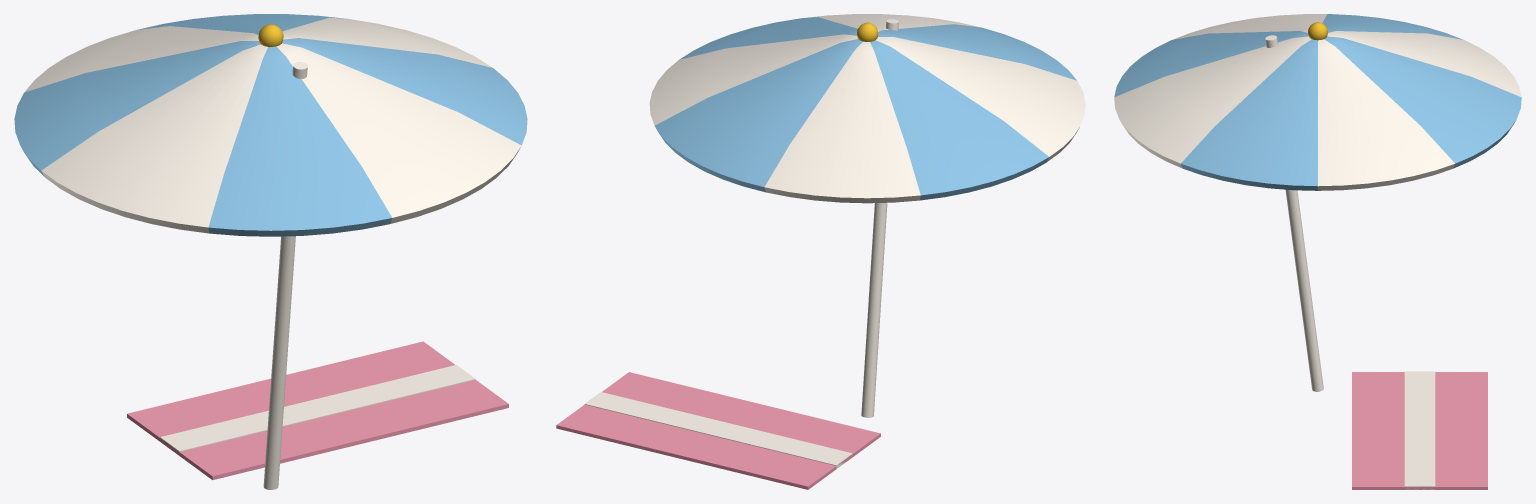
The model's file is beach_umbrella.glb.
3 renders of one model, left to right at view 1: azimuth 30°, elevation 25°; view 2: azimuth 150°, elevation 25°; view 3: azimuth 270°, elevation 25°, orthographic. The views are drawn at different scales.
Visible parts, largest first — view 1: beach_umbrella; view 2: beach_umbrella; view 3: beach_umbrella.
Part boxes in pixels (box(x1,y1,x2,y2)): beach_umbrella: box(14, 14, 527, 489); beach_umbrella: box(556, 14, 1085, 489); beach_umbrella: box(1114, 14, 1521, 489).
Bounding box in the file's own units: 2.6 × 2.38 × 2.4.
Materials: 1 (1 with a texture image).
